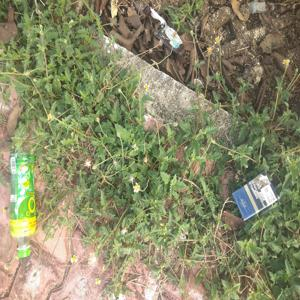cardboard: (229, 169, 276, 225)
plastic bottle: (11, 139, 52, 262)
